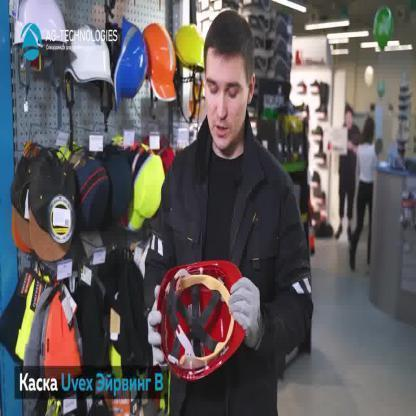gloves: (228, 277, 262, 348), (147, 282, 166, 366)
helmet: (154, 259, 249, 385), (113, 16, 150, 119), (62, 21, 114, 88), (12, 0, 70, 52), (140, 22, 178, 100), (173, 22, 208, 72)
